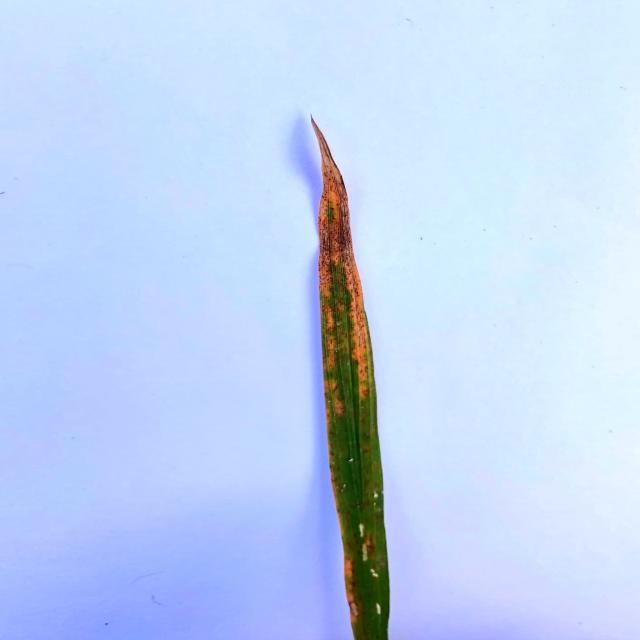tungro: (310, 111, 374, 428)
